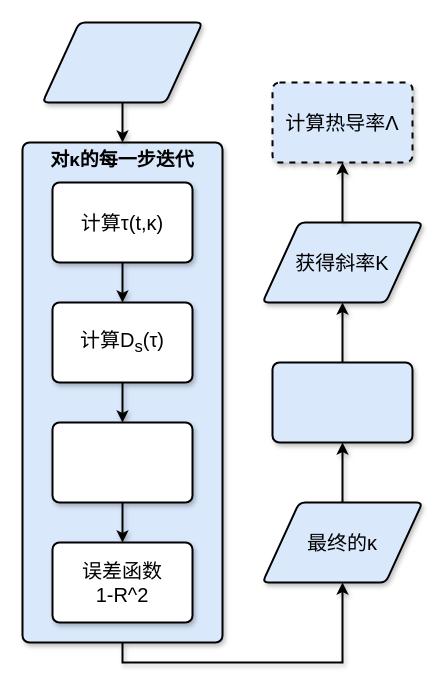
This 446x695 diagram has some shape labels left out. The centre of each missing label's shape, as x and y in pixels:
ΔT与D s 的 线性拟合: (x=123, y=463)
ΔT与D s 的线性拟合: (x=343, y=403)
实测 ΔT-t 关系: (x=123, y=63)
